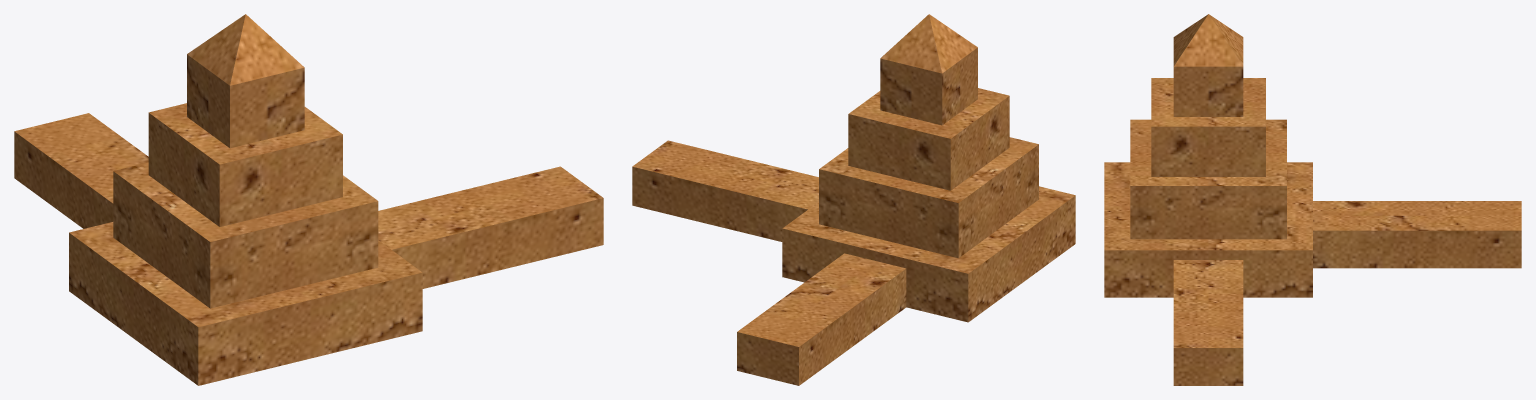
The model's file is crenel_corner.glb.
3 views of the same model, side by side, from view 1: azimuth 30°, elevation 25°; view 2: azimuth 150°, elevation 25°; view 3: azimuth 270°, elevation 25° (orthographic). The views are drawn at different scales.
Parts seen in each view (by area): view 1: CrenelCorner; view 2: CrenelCorner; view 3: CrenelCorner.
Part boxes in pixels (x1,y1,x2,y2): CrenelCorner: (14, 14, 603, 385); CrenelCorner: (632, 14, 1075, 385); CrenelCorner: (1104, 14, 1521, 385).
Bounding box in the file's own units: 1.2 × 0.76 × 1.2.
1 material, 1 textured.
